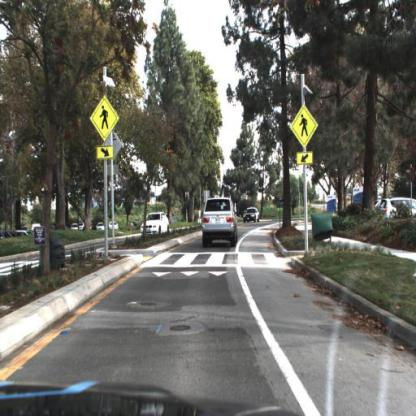car: (202, 193, 241, 248), (139, 207, 171, 238), (243, 204, 265, 226), (242, 206, 260, 227), (95, 220, 107, 234), (96, 219, 108, 232)
